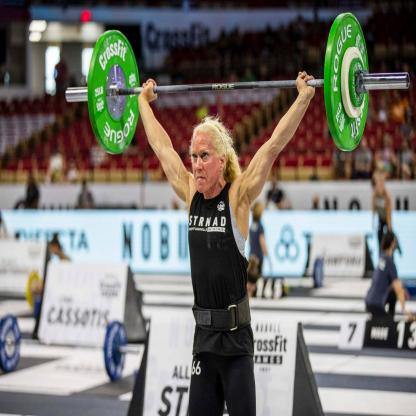barbell: (91, 31, 142, 156), (330, 13, 370, 153)
